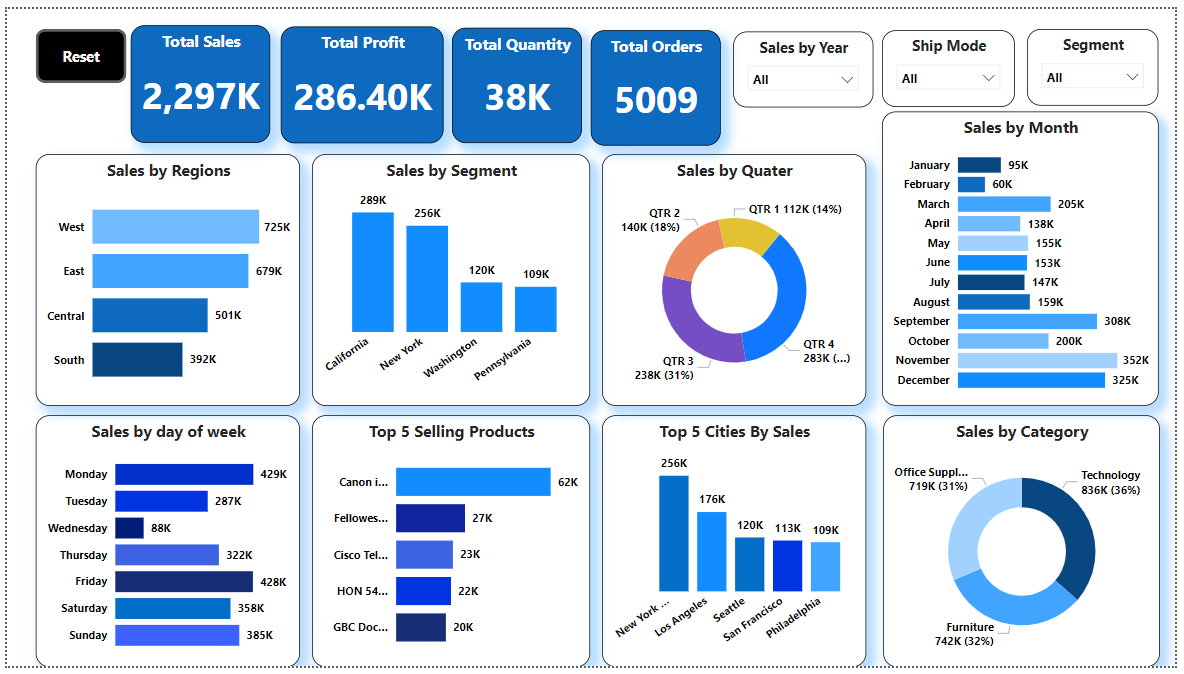

The page's visual inventory and layout, read from the dashboard file:
{"tool":"powerbi","page":{"name":"Page 1","canvas":[1280,720],"ordinal":0},"visuals":[{"type":"donutChart","title":"Sales by Category","fields":{"Category":["DMart Sales.Category"],"Y":["Sum(DMart Sales.Sales)"]},"box":[960.6,444.6,303.3,275.8],"z":0},{"type":"clusteredColumnChart","title":"Top 5 Cities By Sales","fields":{"Category":["DMart Sales.City"],"Y":["Sum(DMart Sales.Sales)"]},"box":[651.8,444.6,289.5,275.8],"z":1000},{"type":"barChart","title":"Top 5 Selling Products","fields":{"Category":["DMart Sales.Product Name"],"Y":["Sum(DMart Sales.Sales)"]},"box":[334.8,444.6,304.6,275.8],"z":2000},{"type":"clusteredBarChart","title":"Sales by day of week","fields":{"Category":["DMart Sales.Day Name"],"Y":["Sum(DMart Sales.Sales)"]},"box":[31.6,444.6,289.5,275.8],"z":3000},{"type":"clusteredBarChart","title":"Sales by Month","fields":{"Category":["DMart Sales.Month Name"],"Y":["Sum(DMart Sales.Sales)"]},"box":[959.2,112.5,303.3,322.5],"z":4000},{"type":"donutChart","title":"Sales by Quater","fields":{"Category":["DMart Sales.QTR Name"],"Y":["Sum(DMart Sales.Sales)"]},"box":[651.8,159.2,289.5,275.8],"z":5000},{"type":"clusteredColumnChart","title":"Sales by Segment","fields":{"Category":["DMart Sales.State"],"Y":["Sum(DMart Sales.Sales)"]},"box":[334.8,159.2,304.6,275.8],"z":6000},{"type":"clusteredBarChart","title":"Sales by Regions","fields":{"Category":["DMart Sales.Region"],"Y":["Sum(DMart Sales.Sales)"]},"box":[31.6,159.2,289.5,275.8],"z":7000},{"type":"card","title":"Total Sales","fields":{"Values":["Sum(DMart Sales.Sales)"]},"box":[135.7,17.5,153.1,129],"z":8000},{"type":"card","title":"Total Profit","fields":{"Values":["Sum(DMart Sales.Profit)"]},"box":[299.6,18.8,178.7,127.6],"z":9000},{"type":"card","title":"Total Quantity","fields":{"Values":["Sum(DMart Sales.Quantity)"]},"box":[487.7,20.2,142.4,126.3],"z":10000},{"type":"card","title":"Total Orders","fields":{"Values":["Count(DMart Sales.Order ID)"]},"box":[639.5,22.8,142.4,126.3],"z":11000},{"type":"slicer","title":"Ship Mode","fields":{"Values":["DMart Sales.Ship Mode"]},"box":[959.2,23.3,145.5,83.7],"z":13000},{"type":"slicer","title":"Segment","fields":{"Values":["DMart Sales.Segment"]},"box":[1118.4,22,144.1,83.7],"z":14000},{"type":"slicer","title":"Sales by Year","fields":{"Values":["DMart Sales.Year"]},"box":[796.3,24.1,153.2,83.2],"z":14001},{"type":"actionButton","title":"Reset","box":[30.9,21.5,99.4,59.1],"z":14003}]}

Visuals, with their boxes in screenshot pixels (x1, y1, x2, y2), scaled from the page's 1280x720 canvas onto the 1184x674 screenshot:
"Sales by Category" donutChart: 889, 416, 1169, 673
"Top 5 Cities By Sales" clusteredColumnChart: 603, 416, 871, 673
"Top 5 Selling Products" barChart: 310, 416, 591, 673
"Sales by day of week" clusteredBarChart: 29, 416, 297, 673
"Sales by Month" clusteredBarChart: 887, 105, 1168, 407
"Sales by Quater" donutChart: 603, 149, 871, 407
"Sales by Segment" clusteredColumnChart: 310, 149, 591, 407
"Sales by Regions" clusteredBarChart: 29, 149, 297, 407
"Total Sales" card: 126, 16, 267, 137
"Total Profit" card: 277, 18, 442, 137
"Total Quantity" card: 451, 19, 583, 137
"Total Orders" card: 592, 21, 723, 140
"Ship Mode" slicer: 887, 22, 1022, 100
"Segment" slicer: 1035, 21, 1168, 99
"Sales by Year" slicer: 737, 23, 878, 100
"Reset" actionButton: 29, 20, 121, 75
